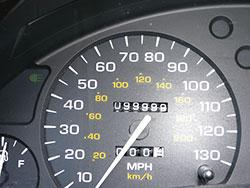0: (114, 102, 121, 110)
9: (159, 103, 167, 112), (141, 102, 148, 112), (132, 102, 139, 111), (123, 102, 130, 110), (150, 103, 157, 111)
odometer: (113, 101, 169, 114)
